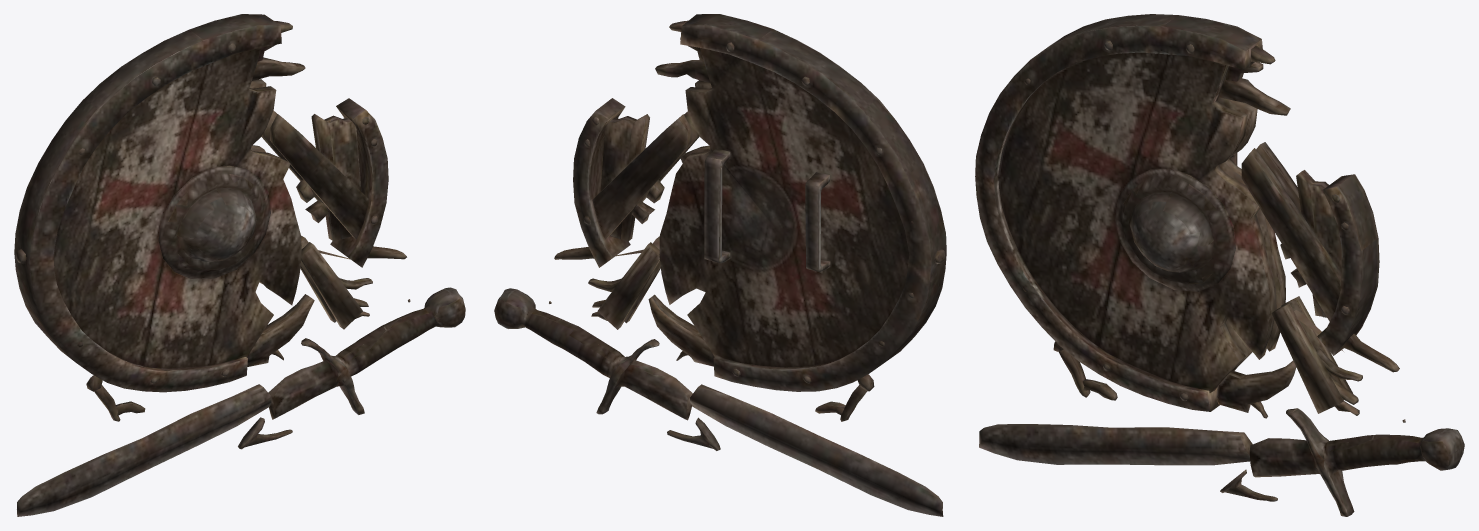
The model's file is d_sword_shield_broken.glb.
3 views of the same model, side by side, from view 1: azimuth 30°, elevation 25°; view 2: azimuth 150°, elevation 25°; view 3: azimuth 330°, elevation 25° (orthographic). The views are drawn at different scales.
Parts seen in each view (by area): view 1: d_sword_shield_broken; view 2: d_sword_shield_broken; view 3: d_sword_shield_broken.
Part boxes in pixels (<box>): d_sword_shield_broken: <box>14,14,465,516</box>; d_sword_shield_broken: <box>494,14,946,516</box>; d_sword_shield_broken: <box>975,14,1464,516</box>.
Size of the model in its own units: 1.43 by 1.36 by 0.2327.
Materials: 1 (1 with a texture image).
